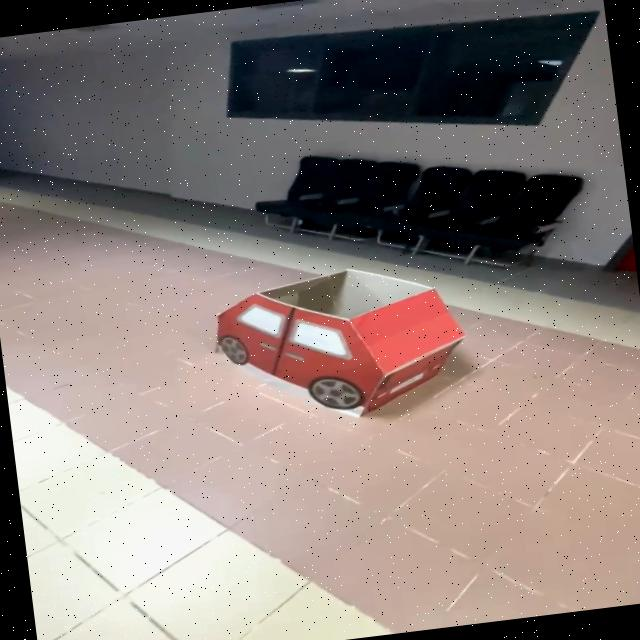red_car: (198, 245, 486, 449)
